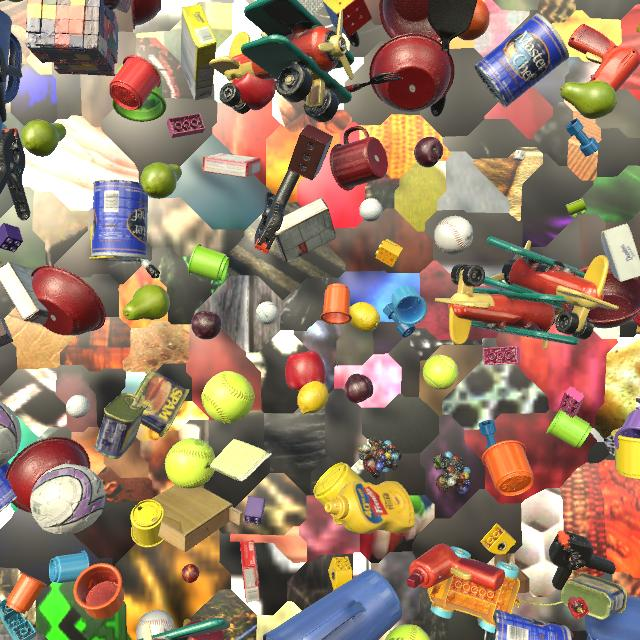ycb_002_master_chef_can: (474, 13, 569, 108), (91, 179, 148, 261), (484, 609, 572, 640), (0, 462, 18, 512)
ycb_003_cracker_box: (116, 0, 131, 13)
ycb_004_sugar_box: (181, 4, 217, 100), (601, 224, 640, 282)
ycb_006_mustard_bottle: (325, 481, 415, 534)
ycb_008_pudding_box: (275, 197, 336, 262), (0, 262, 49, 324)
ycb_009_gelatin_box: (202, 153, 261, 178), (240, 540, 260, 603)
ycb_010_potted_meat_can: (132, 369, 189, 437), (95, 393, 148, 459), (561, 573, 627, 620)
ycb_012_strawberry: (633, 313, 640, 326)
ycb_013_apple: (232, 73, 276, 110), (285, 351, 326, 390)
ycb_014_lemon: (297, 381, 328, 414), (349, 302, 380, 332)
ycb_016_pear: (560, 80, 617, 119), (123, 284, 170, 321), (21, 120, 66, 157), (141, 162, 182, 199), (0, 0, 23, 2)
ycb_017_orange: (457, 0, 490, 41)
ycb_018_plum: (191, 311, 222, 340), (414, 137, 443, 168), (345, 374, 373, 403), (103, 0, 121, 10)
